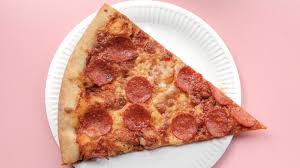pizza: (45, 6, 266, 163)
